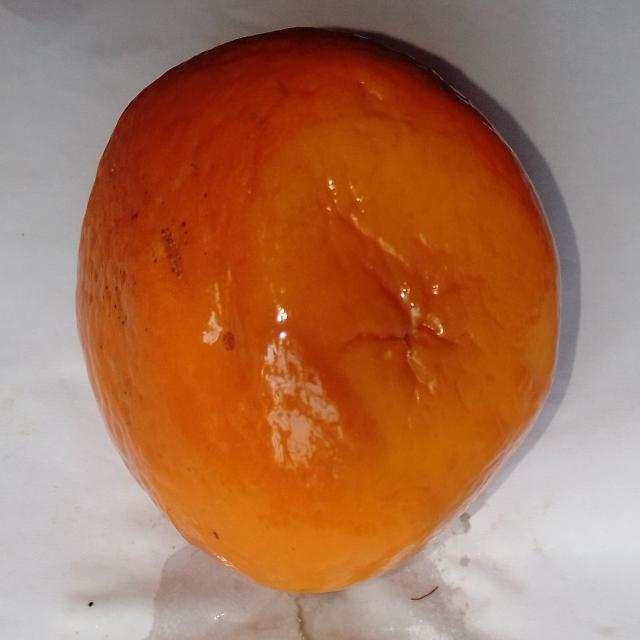orange: (77, 29, 558, 591)
